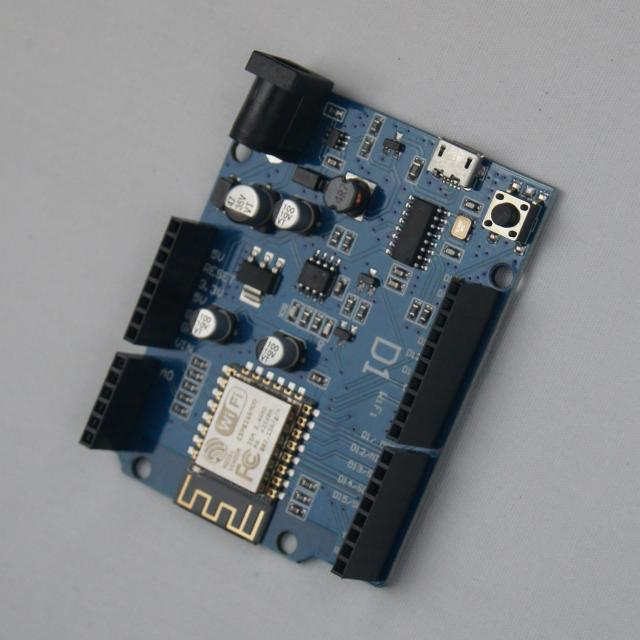Arduino Uno WiFi Shield: (81, 52, 556, 585)
